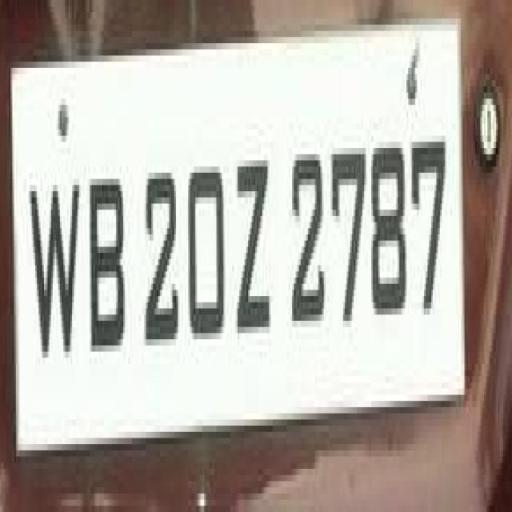number plate: (12, 0, 476, 481)
